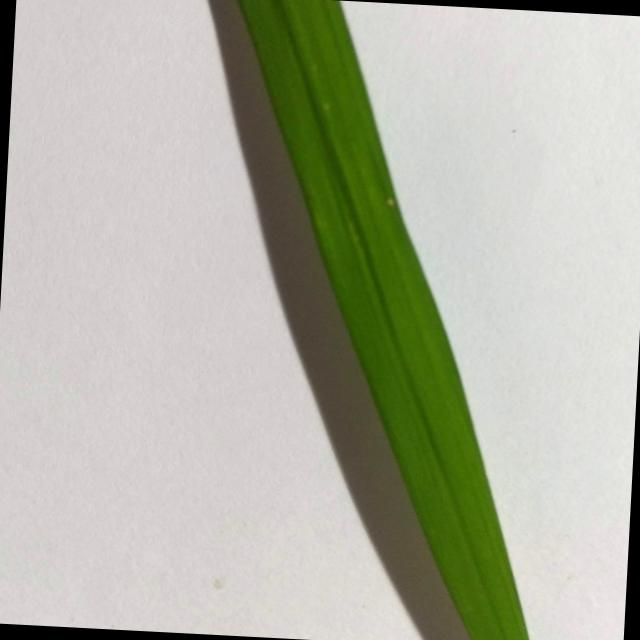Rice_Healthy: (238, 0, 529, 640)
